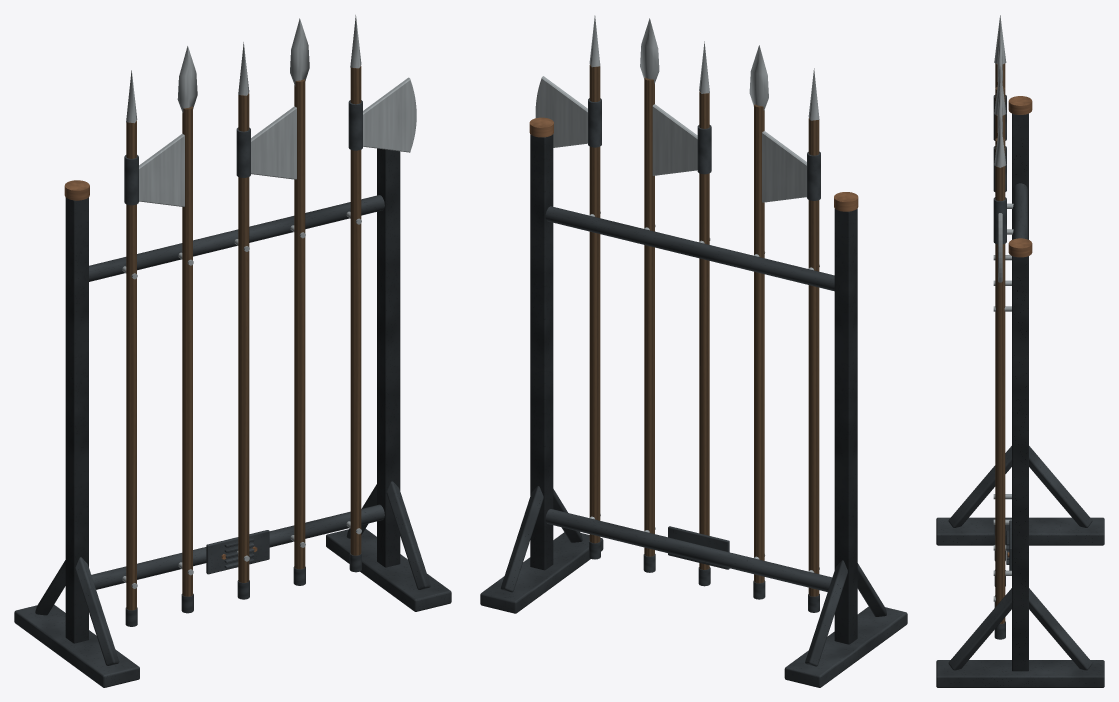
The picture shows the model from 3 angles, left to right: view 1: azimuth 30°, elevation 25°; view 2: azimuth 150°, elevation 25°; view 3: azimuth 270°, elevation 25°; orthographic projection. The views are drawn at different scales.
Parts seen in each view (by area): view 1: worn timber edges, forged iron, blackened strap iron, machined steel; view 2: forged iron, worn timber edges, blackened strap iron, machined steel, aged brass fittings; view 3: forged iron, blackened strap iron, worn timber edges, machined steel, aged brass fittings.
Part boxes in pixels (left/top/right/bottom): worn timber edges: left=126, top=66, right=361, bottom=610; forged iron: left=14, top=100, right=451, bottom=687; blackened strap iron: left=65, top=148, right=400, bottom=643; machined steel: left=122, top=15, right=416, bottom=588; forged iron: left=480, top=98, right=907, bottom=687; worn timber edges: left=589, top=65, right=819, bottom=596; blackened strap iron: left=530, top=134, right=857, bottom=644; machined steel: left=535, top=15, right=819, bottom=572; aged brass fittings: left=529, top=117, right=858, bottom=211; forged iron: left=936, top=95, right=1104, bottom=687; blackened strap iron: left=1012, top=113, right=1028, bottom=671; worn timber edges: left=995, top=63, right=1005, bottom=623; machined steel: left=993, top=15, right=1013, bottom=601; aged brass fittings: left=1007, top=96, right=1032, bottom=557.
Bounding box in the file's own units: 1.12 × 1.81 × 0.5.
Materials: 5 (5 with a texture image).
